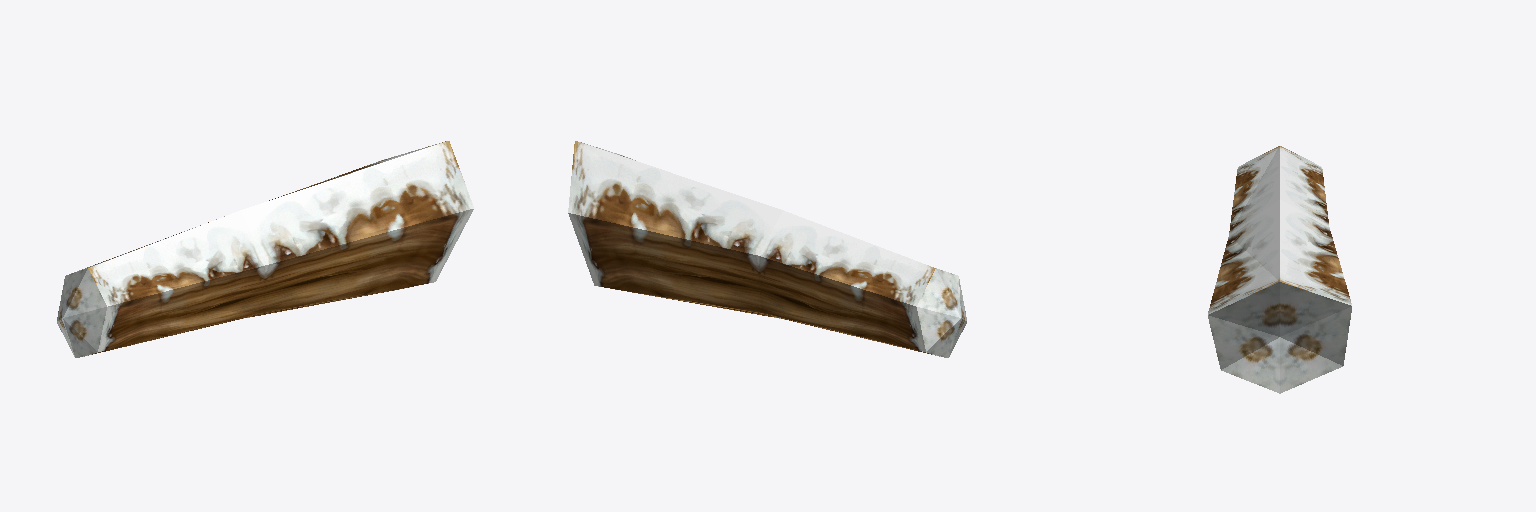
3 renders of one model, left to right at view 1: azimuth 30°, elevation 25°; view 2: azimuth 150°, elevation 25°; view 3: azimuth 270°, elevation 25°, orthographic.
Visible parts, largest first — view 1: ironstump05; view 2: ironstump05; view 3: ironstump05.
Part boxes in pixels (x1,y1,x2,y2): ironstump05: (57, 141, 473, 357); ironstump05: (568, 141, 966, 357); ironstump05: (1208, 146, 1351, 393).
Size of the model in its own units: 16.08 by 5.45 by 5.23.
1 materials, 1 textured.